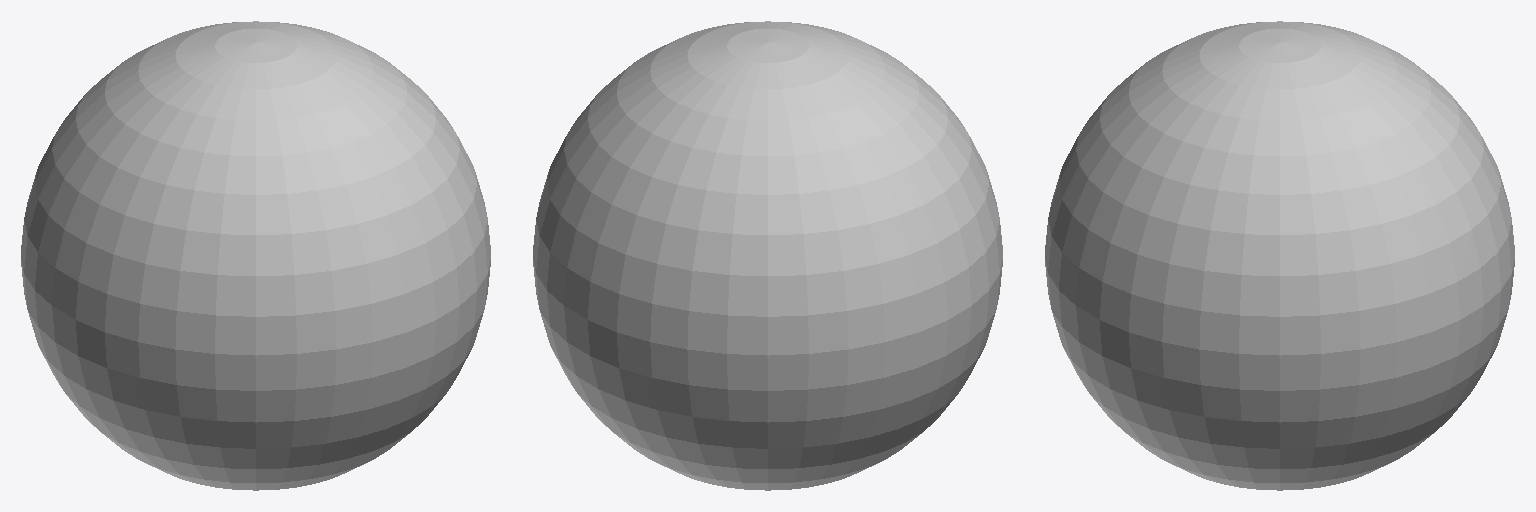
The model's file is EntityBigExplosion.obj.
3 views of the same model, side by side, from view 1: azimuth 30°, elevation 25°; view 2: azimuth 150°, elevation 25°; view 3: azimuth 270°, elevation 25° (orthographic).
Parts seen in each view (by area): view 1: ____________; view 2: ____________; view 3: ____________.
Boxes of the visible parts, x1=… form: ____________: x1=21, y1=21, x2=490, y2=490; ____________: x1=533, y1=21, x2=1002, y2=490; ____________: x1=1045, y1=21, x2=1514, y2=490.
Bounding box in the file's own units: 1 × 1 × 1.